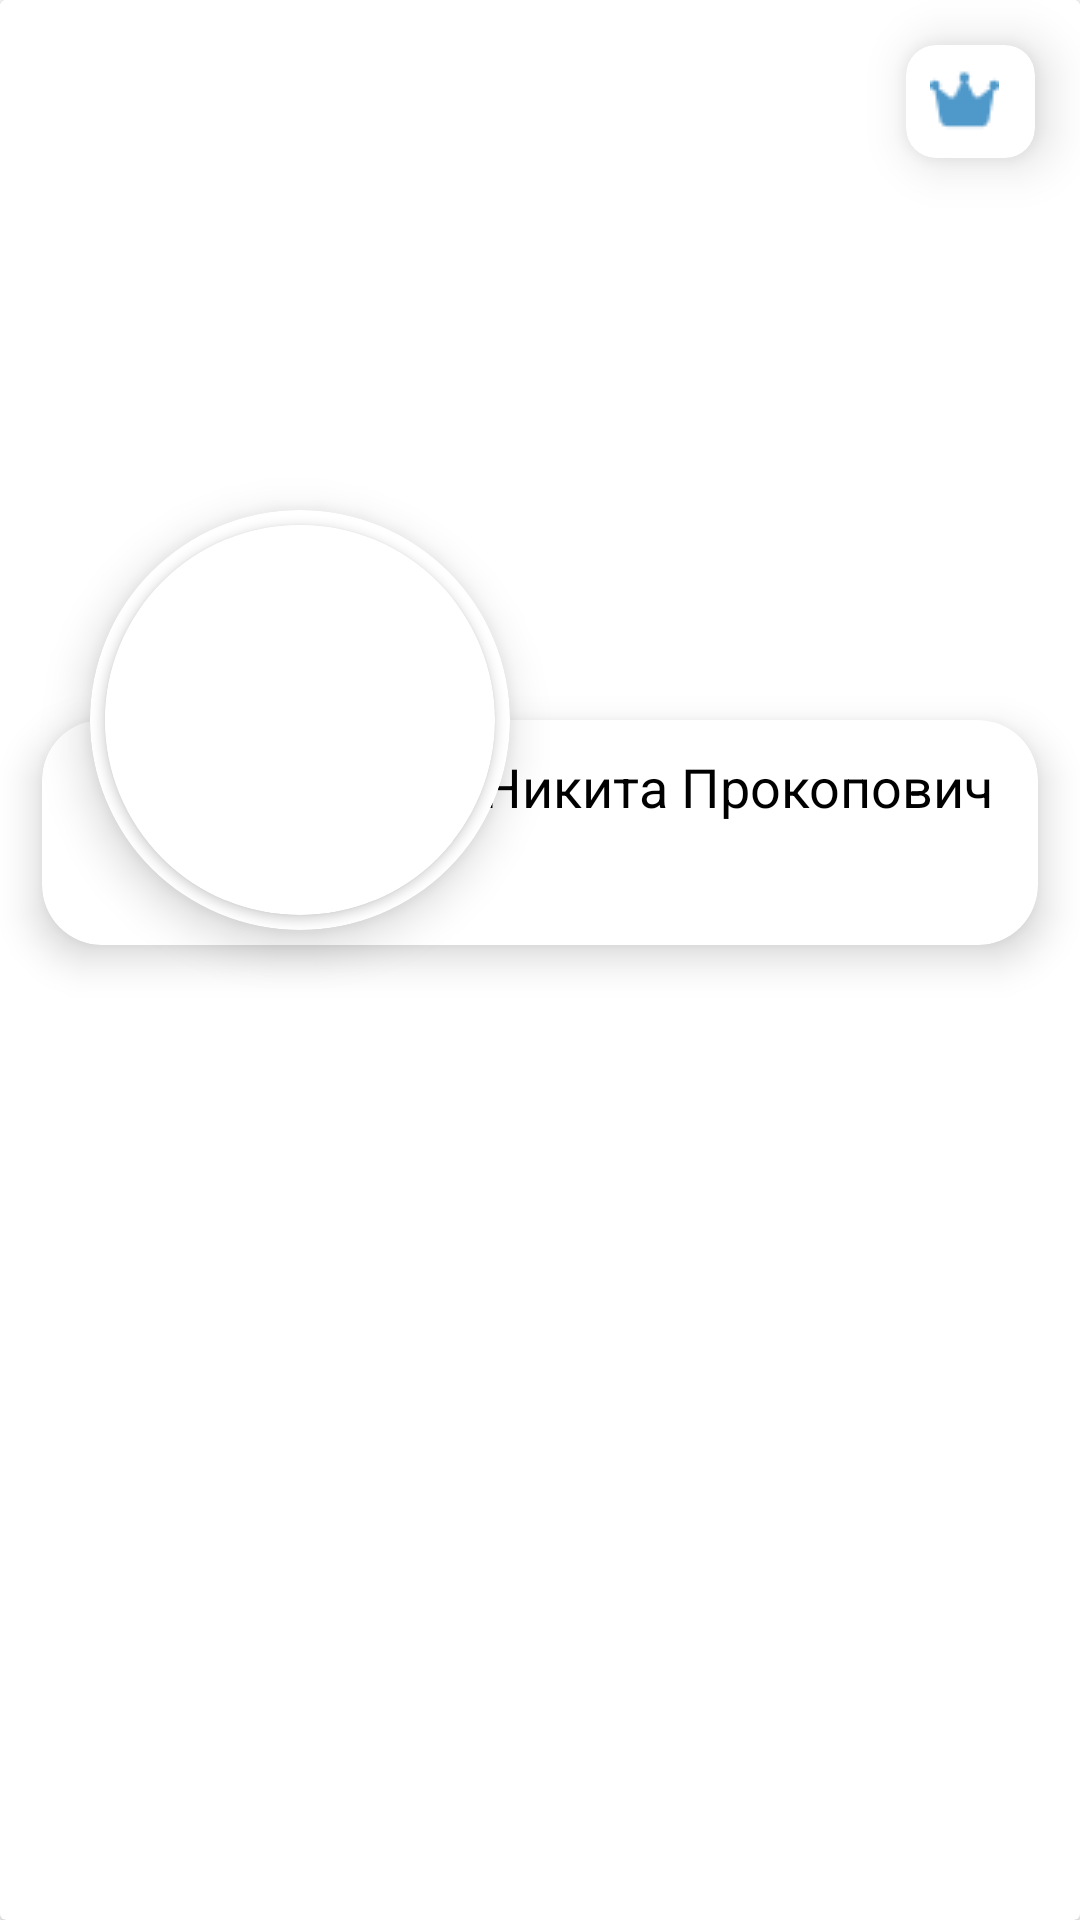

Screen size 1080 x 1920. Icon name, then its center in pixels as (x,y):
crown: (964,99)
